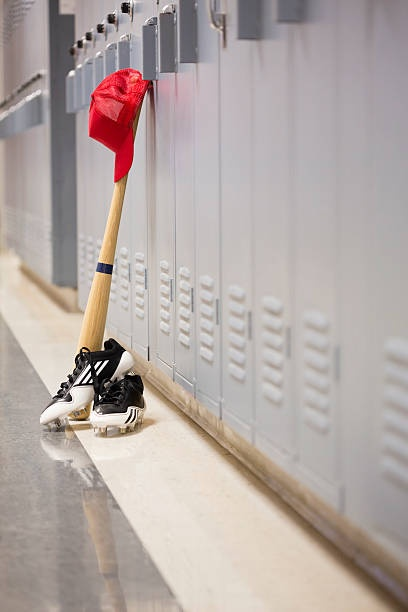bita: (63, 84, 142, 377)
